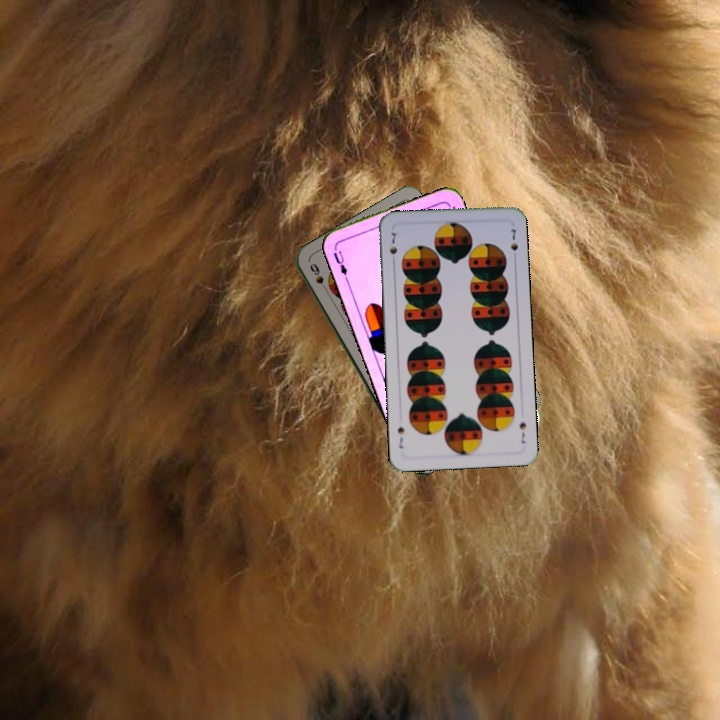EU: (329, 246, 350, 283)
S7: (385, 228, 400, 267), (515, 418, 528, 446)
S9: (306, 259, 331, 296)
